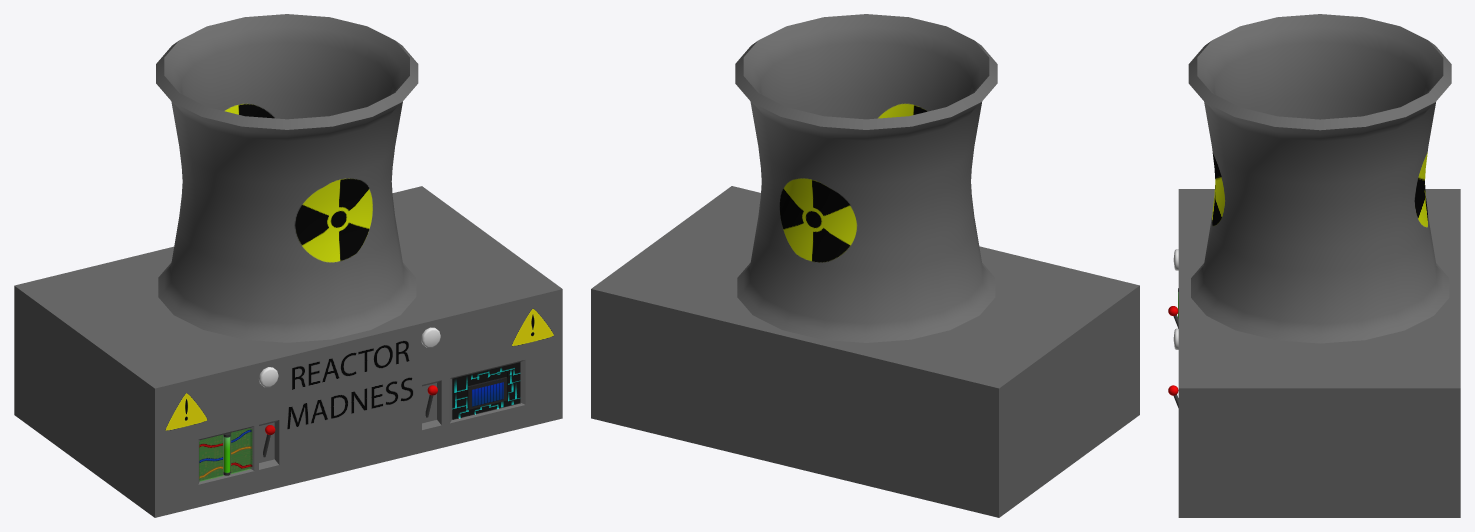
Rendered from Reactor.FBX.
The picture shows the model from 3 angles, left to right: view 1: azimuth 30°, elevation 25°; view 2: azimuth 150°, elevation 25°; view 3: azimuth 270°, elevation 25°; orthographic projection.
Parts seen in each view (by area): view 1: Box001, Box002; view 2: Box001; view 3: Box001.
Part boxes in pixels (x1,y1,x2,y2): Box001: [14, 14, 562, 517]; Box002: [467, 377, 507, 409]; Box001: [591, 14, 1139, 517]; Box001: [1178, 14, 1460, 517].
Bounding box in the file's own units: 419 × 344 × 260.
